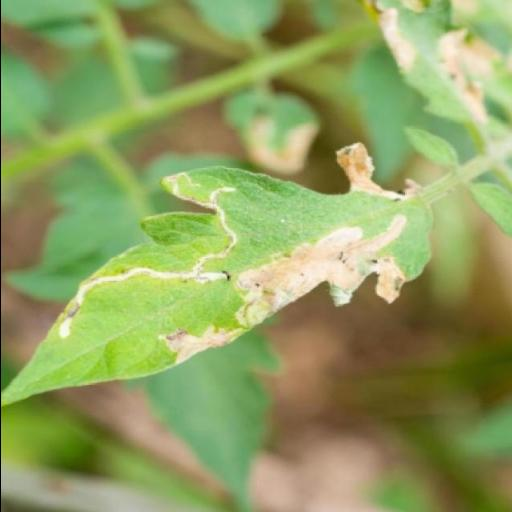Leaf Miner: (0, 170, 438, 408)
